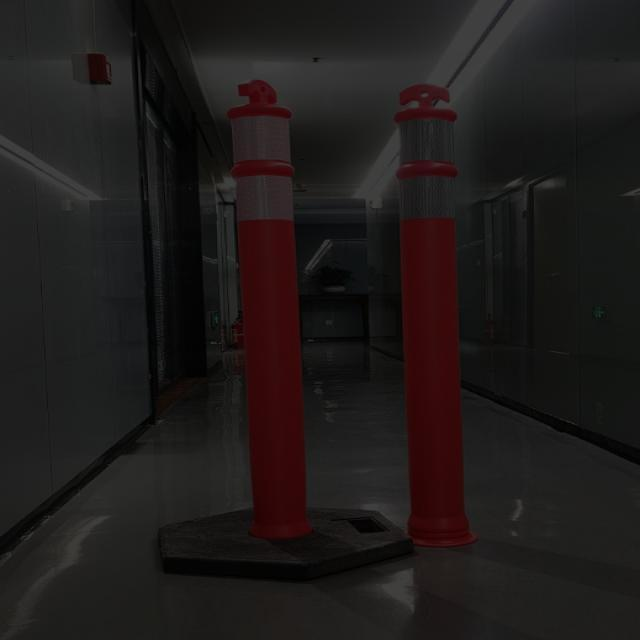Bollard: (220, 76, 322, 542), (388, 80, 473, 534)
